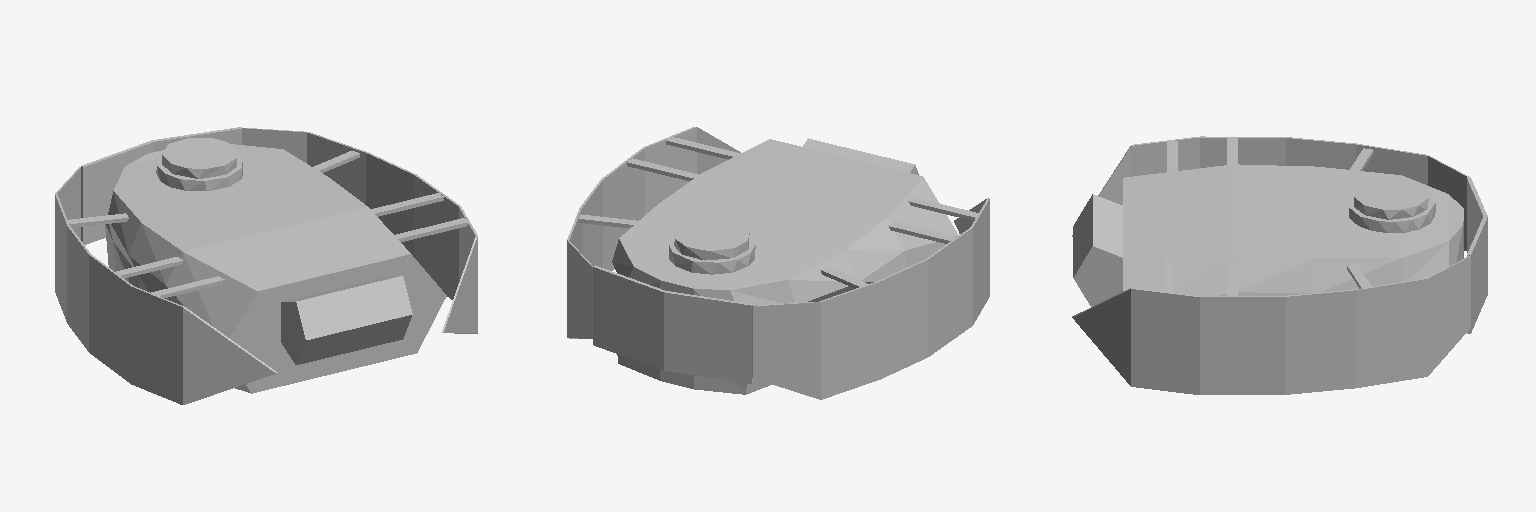
File: IVTurret.obj
The picture shows the model from 3 angles: view 1: azimuth 30°, elevation 25°; view 2: azimuth 150°, elevation 25°; view 3: azimuth 270°, elevation 25°; orthographic projection.
Parts seen in each view (by area): view 1: 立方体.057_立方体.054, 立方体.058_立方体.067, 立方体.056_立方体.062, 円柱.011, 立方体.065_立方体.068, 円柱.003_円柱.002, 円柱.004_円柱.003, 立方体.060_立方体.057, 立方体.061_立方体.058, 立方体.059_立方体.056, 立方体.062_立方体.059; view 2: 立方体.057_立方体.054, 立方体.058_立方体.067, 立方体.065_立方体.068, 立方体.056_立方体.062, 円柱.003_円柱.002, 円柱.004_円柱.003, 円柱.011, 立方体.060_立方体.057, 立方体.059_立方体.056, 立方体.061_立方体.058, 立方体.062_立方体.059; view 3: 立方体.056_立方体.062, 立方体.057_立方体.054, 立方体.058_立方体.067, 円柱.011, 円柱.003_円柱.002, 立方体.065_立方体.068, 円柱.004_円柱.003.
Part boxes in pixels (x1,y1,x2,y2): 立方体.057_立方体.054: (105,144,446,393); 立方体.058_立方体.067: (55,167,277,404); 立方体.056_立方体.062: (241,127,477,333); 円柱.011: (281,276,412,364); 立方体.065_立方体.068: (81,127,241,244); 円柱.003_円柱.002: (162,138,236,178); 円柱.004_円柱.003: (156,154,242,190); 立方体.060_立方体.057: (394,218,467,241); 立方体.061_立方体.058: (371,193,443,216); 立方体.059_立方体.056: (151,276,224,297); 立方体.062_立方体.059: (116,257,182,278); 立方体.057_立方体.054: (612,139,958,394); 立方体.058_立方体.067: (752,198,989,399); 立方体.065_立方体.068: (593,265,753,383); 立方体.056_立方体.062: (567,127,740,338); 円柱.003_円柱.002: (674,219,749,260); 円柱.004_円柱.003: (669,236,755,274); 円柱.011: (803,138,918,174); 立方体.060_立方体.057: (666,137,740,159); 立方体.059_立方体.056: (908,197,978,220); 立方体.061_立方体.058: (627,158,698,180); 立方体.062_立方体.059: (889,222,955,243); 立方体.056_立方体.062: (1072,256,1470,394); 立方体.057_立方体.054: (1123,164,1463,295); 立方体.058_立方体.067: (1072,136,1468,250); 円柱.011: (1073,194,1122,306); 円柱.003_円柱.002: (1354,178,1428,219); 立方体.065_立方体.068: (1467,177,1487,333); 円柱.004_円柱.003: (1349,195,1435,232).
Size of the model in its own units: 3.52 by 1.26 by 3.84.